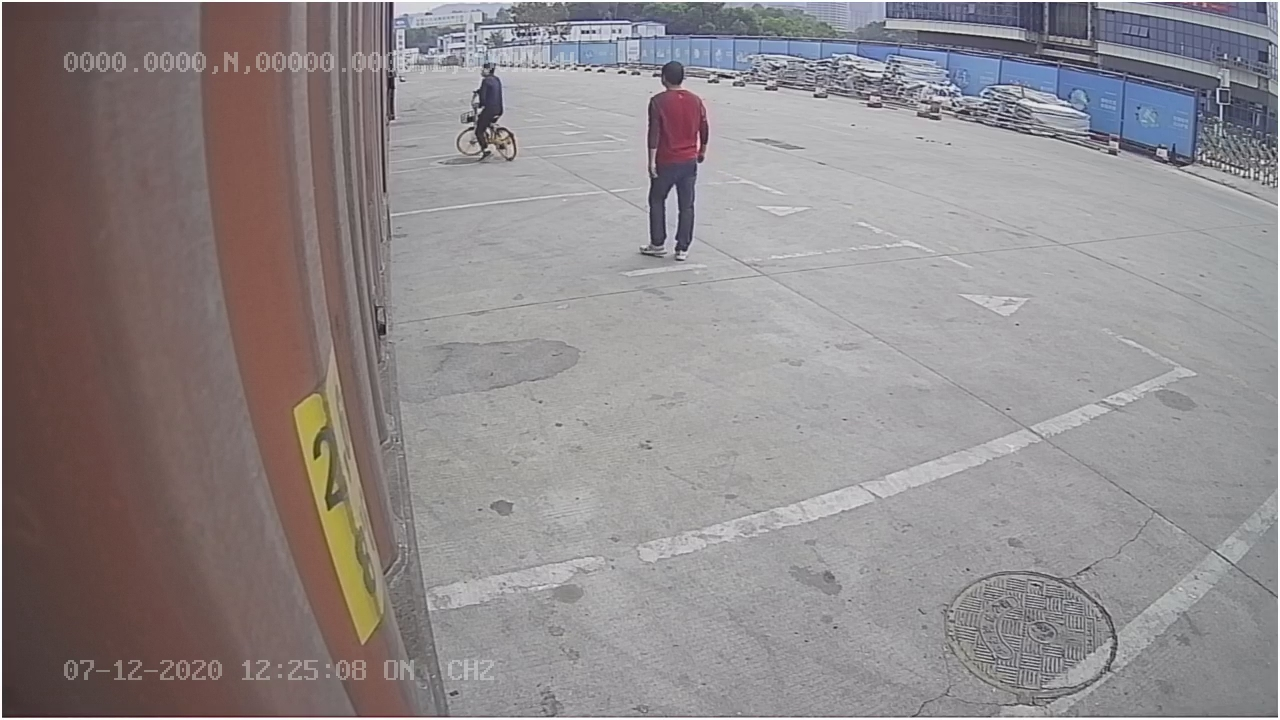person: (625, 56, 714, 265)
